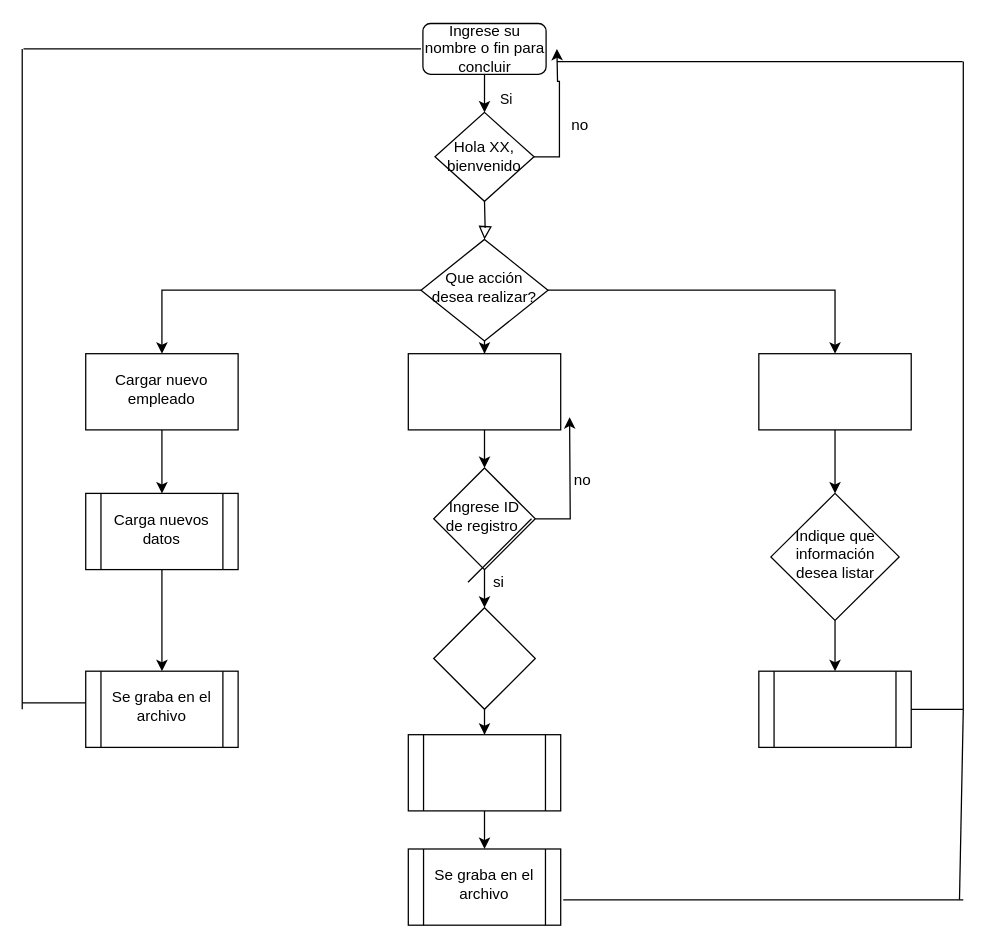
Image size: 987x947. Some labels were removed from this diagram. The shapes that lost their labels are listed below. From the top down, each one's centre as x and y in pixels, then its label:
At point 484,391: "Modificar información existente".
At point 834,391: "Obtener un listado".
At point 483,657: "Que dato desea modificar?".
At point 834,708: "Se genera la lista solicitada".
At point 484,772: "carga modificación".
